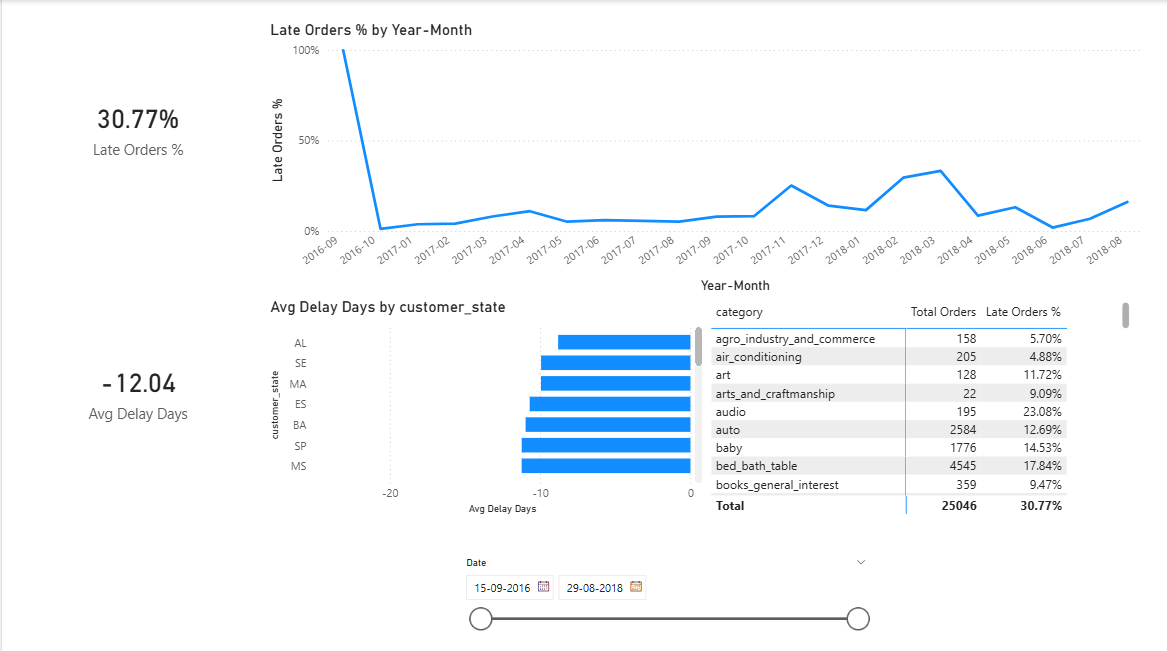

Layout of this report page (visuals, bound fields, positions):
{"tool":"powerbi","page":{"name":"Delivery Bottleneck","canvas":[1280,720],"ordinal":1},"visuals":[{"type":"card","fields":{"Values":["public vw_powerbi_master.Late Orders %"]},"box":[10,0,280,280],"z":0},{"type":"card","fields":{"Values":["public vw_powerbi_master.Avg Delay Days"]},"box":[10,290,280,280],"z":1000},{"type":"lineChart","fields":{"Category":["Date Table.Year-Month"],"Y":["public vw_powerbi_master.Late Orders %"]},"box":[289.5,22,967.4,304.6],"z":2000},{"type":"clusteredBarChart","fields":{"Category":["public vw_powerbi_master.customer_state"],"Y":["public vw_powerbi_master.Avg Delay Days"]},"box":[289.5,326.6,484.4,242.9],"z":3000},{"type":"pivotTable","fields":{"Rows":["public vw_powerbi_master.category"],"Values":["public vw_powerbi_master.Total Orders","public vw_powerbi_master.Late Orders %"]},"box":[773.9,326.6,469.3,242.9],"z":4000},{"type":"slicer","fields":{"Values":["Date Table.Date"]},"box":[496.7,606.5,463.8,113.9],"z":5000}]}

Visuals, with their boxes in screenshot pixels (x1, y1, x2, y2), scaled from the page's 1280x720 canvas onto the 1167x651 screenshot:
card - public vw_powerbi_master.Late Orders %: x1=9 y1=0 x2=264 y2=253
card - public vw_powerbi_master.Avg Delay Days: x1=9 y1=262 x2=264 y2=515
lineChart - Date Table.Year-Month x public vw_powerbi_master.Late Orders %: x1=264 y1=20 x2=1146 y2=295
clusteredBarChart - public vw_powerbi_master.customer_state x public vw_powerbi_master.Avg Delay Days: x1=264 y1=295 x2=706 y2=515
pivotTable - public vw_powerbi_master.category x public vw_powerbi_master.Total Orders: x1=706 y1=295 x2=1133 y2=515
slicer - Date Table.Date: x1=453 y1=548 x2=876 y2=650
